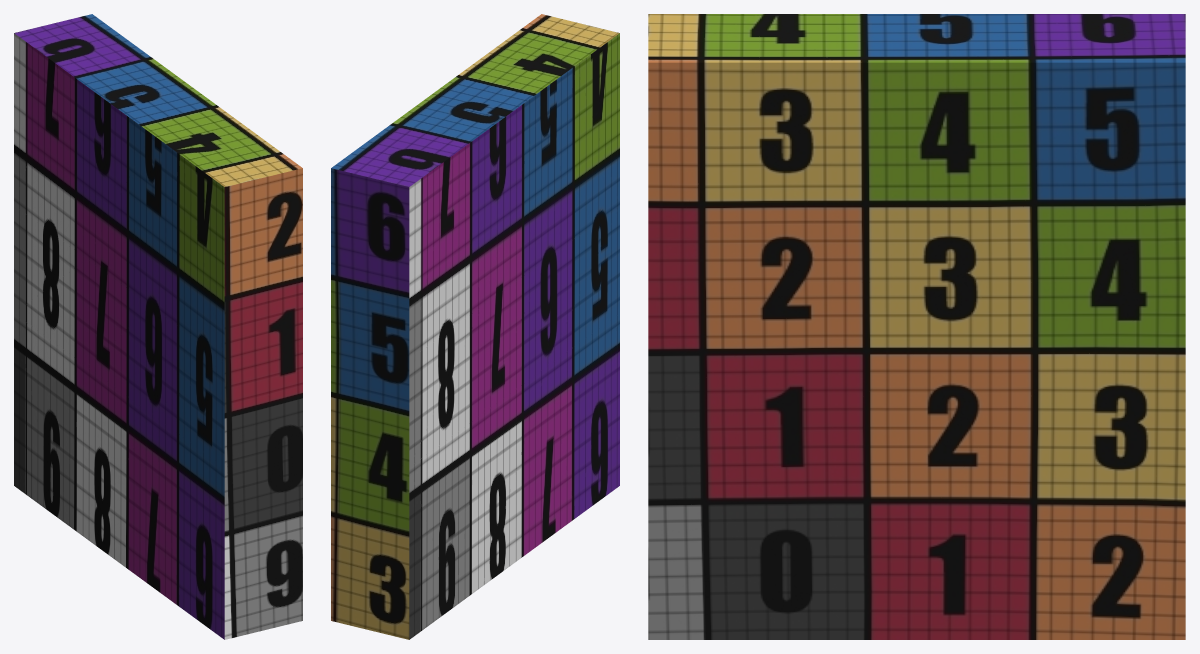
Rendered from PusherWall1.fbx.
3 views of the same model, side by side, from view 1: azimuth 30°, elevation 25°; view 2: azimuth 150°, elevation 25°; view 3: azimuth 270°, elevation 25° (orthographic). The views are drawn at different scales.
Parts seen in each view (by area): view 1: pCube4; view 2: pCube4; view 3: pCube4.
Boxes of the visible parts, left/top/right/bottom form: pCube4: left=14, top=14, right=302, bottom=639; pCube4: left=331, top=14, right=619, bottom=639; pCube4: left=648, top=14, right=1185, bottom=639.
Size of the model in its own units: 0.7259 by 4.01 by 3.38.
Materials: 1 (1 with a texture image).
